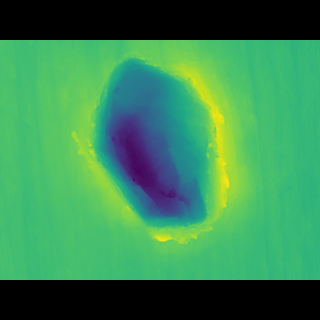Loch: (71, 70, 247, 237)
